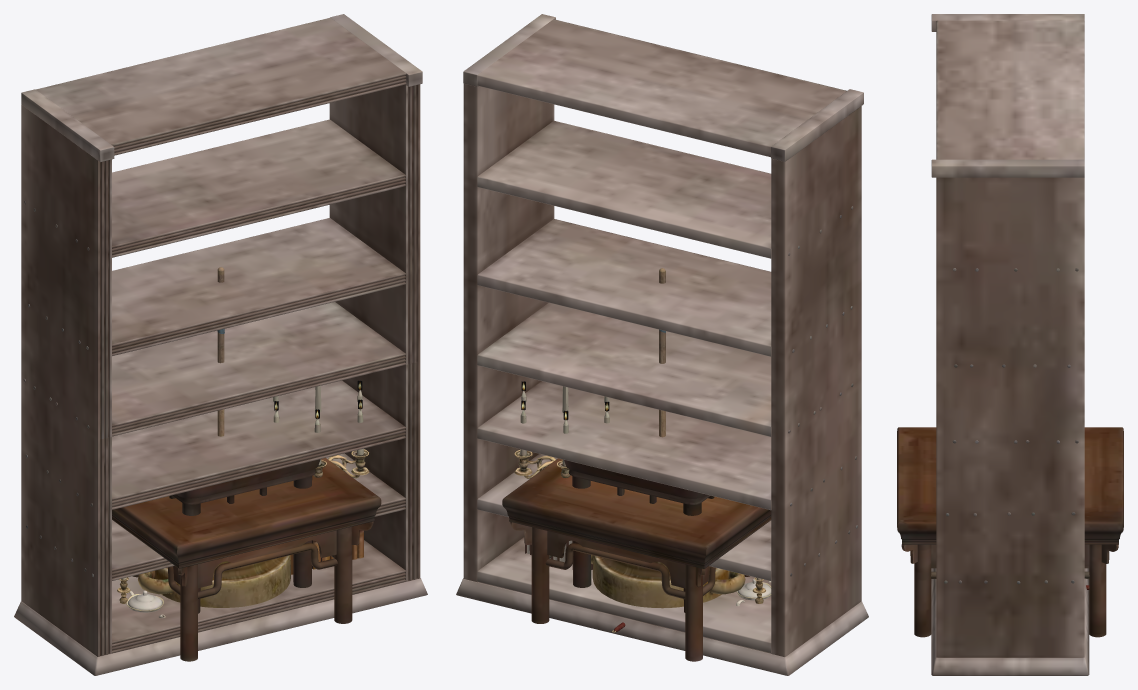
Rendered from props.glb.
3 renders of one model, left to right at view 1: azimuth 30°, elevation 25°; view 2: azimuth 150°, elevation 25°; view 3: azimuth 270°, elevation 25°, orthographic. The views are drawn at different scales.
Visible parts, largest first — view 1: wooden_bookshelf_worn, chinese_tea_table, ceramic_pot, chinese_stool, brass_candleholders, tea_set_01; view 2: wooden_bookshelf_worn, chinese_tea_table, ceramic_pot, chinese_stool, brass_candleholders; view 3: wooden_bookshelf_worn, chinese_tea_table.
Part boxes in pixels (x1,y1,x2,y2): wooden_bookshelf_worn: [14, 14, 427, 675]; chinese_tea_table: [112, 458, 381, 661]; ceramic_pot: [138, 555, 290, 607]; chinese_stool: [133, 459, 320, 613]; brass_candleholders: [117, 380, 369, 603]; tea_set_01: [126, 590, 165, 618]; wooden_bookshelf_worn: [456, 14, 868, 675]; chinese_tea_table: [502, 458, 771, 661]; ceramic_pot: [591, 555, 745, 608]; chinese_stool: [564, 460, 749, 612]; brass_candleholders: [514, 381, 766, 603]; wooden_bookshelf_worn: [931, 14, 1089, 675]; chinese_tea_table: [897, 427, 1123, 637].
Size of the model in its own units: 1.37 by 2.19 by 0.8356.
25 materials, 25 textured.
